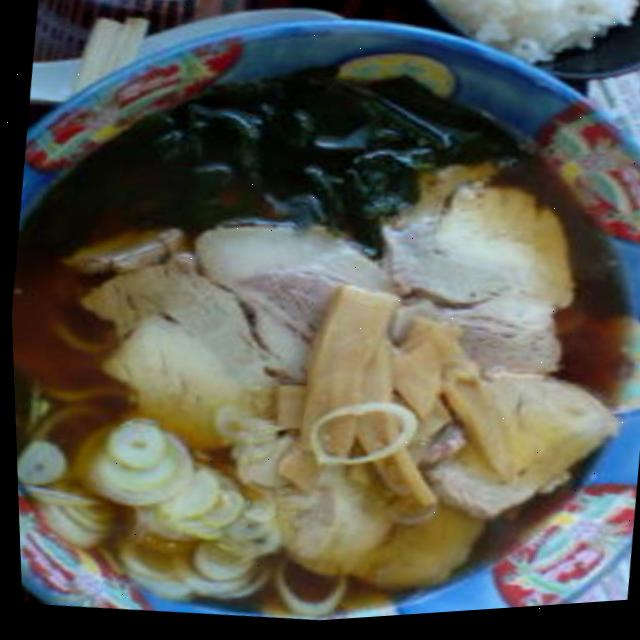面条主食: (4, 99, 640, 640)
